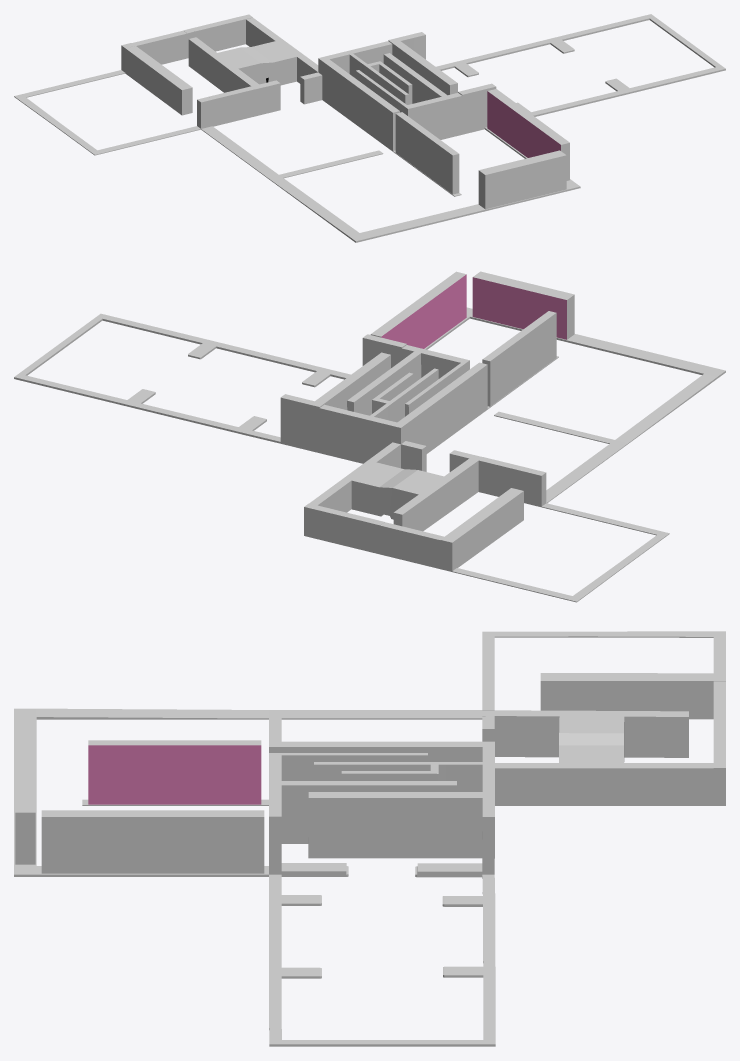
The model's file is carpark_sidewalk.dae.
3 renders of one model, top to bottom at view 1: azimuth 30°, elevation 25°; view 2: azimuth 150°, elevation 25°; view 3: azimuth 270°, elevation 25°, orthographic. The views are drawn at different scales.
Visible parts, largest first — view 1: Sidewalk; view 2: Sidewalk; view 3: Sidewalk.
Boxes of the visible parts, x1,y1,x2,y2 form: Sidewalk: [14, 14, 725, 242]; Sidewalk: [14, 271, 725, 602]; Sidewalk: [14, 631, 725, 1046].
Size of the model in its own units: 262 by 190 by 17.78.
